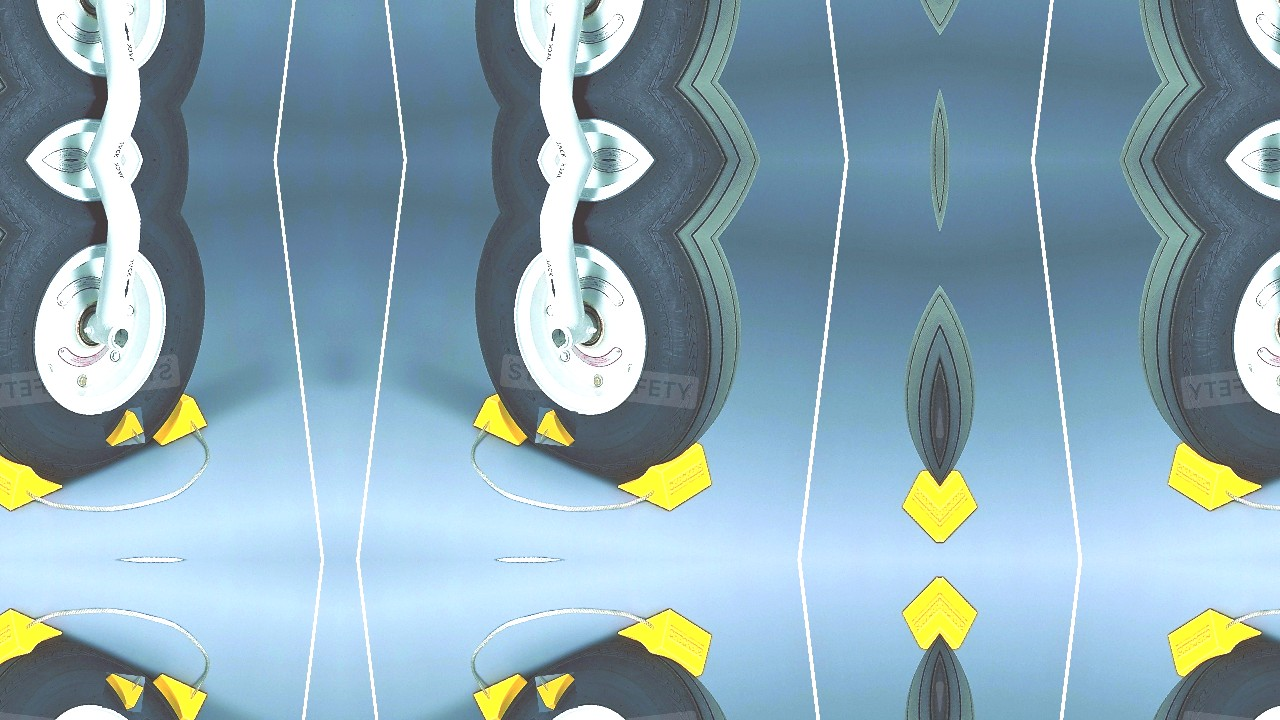chock: (615, 433, 718, 517), (1162, 433, 1265, 517), (615, 603, 718, 687), (1162, 603, 1265, 687), (0, 433, 65, 517), (0, 603, 65, 687), (897, 467, 940, 550), (940, 467, 983, 550), (897, 570, 940, 653), (940, 570, 983, 653), (147, 390, 209, 447), (471, 390, 533, 447), (147, 673, 209, 720), (471, 673, 533, 720), (102, 407, 145, 447), (535, 407, 578, 447), (102, 673, 145, 713), (535, 673, 578, 713)
wheel: (452, 211, 754, 493), (0, 211, 228, 493), (1126, 211, 1280, 493), (452, 0, 754, 109), (452, 627, 754, 720), (0, 0, 228, 109), (0, 627, 228, 720), (1126, 0, 1280, 109), (1126, 627, 1280, 720)
